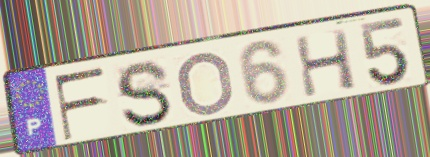5: (357, 15, 412, 88)
6: (236, 37, 295, 109)
F: (51, 64, 109, 144)
H: (291, 26, 359, 100)
O: (176, 50, 237, 118)
S: (113, 59, 176, 130)
